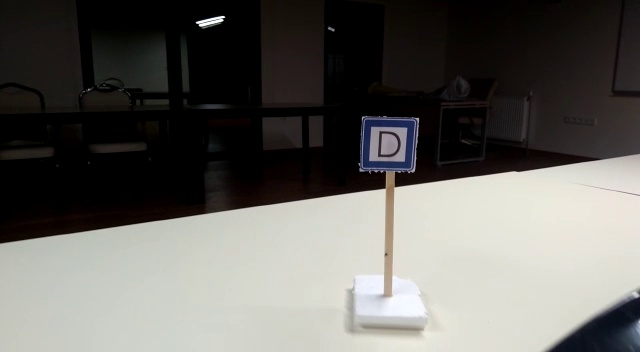durak: (361, 117, 416, 171)
